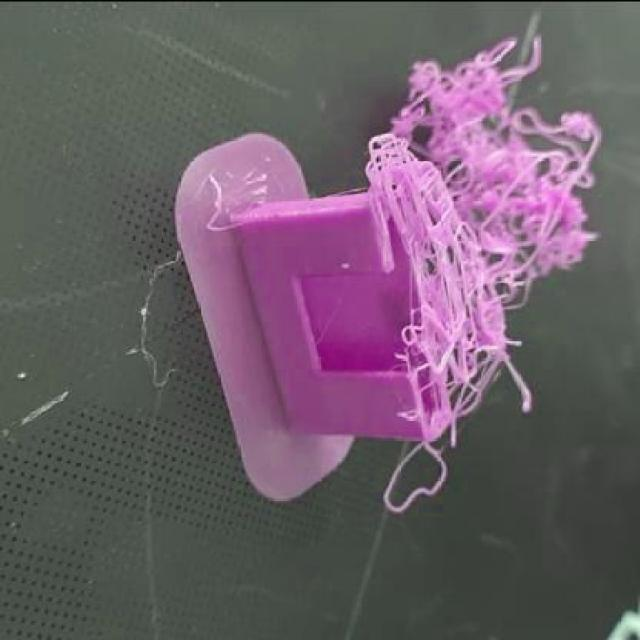spaghetti: (366, 34, 602, 513)
